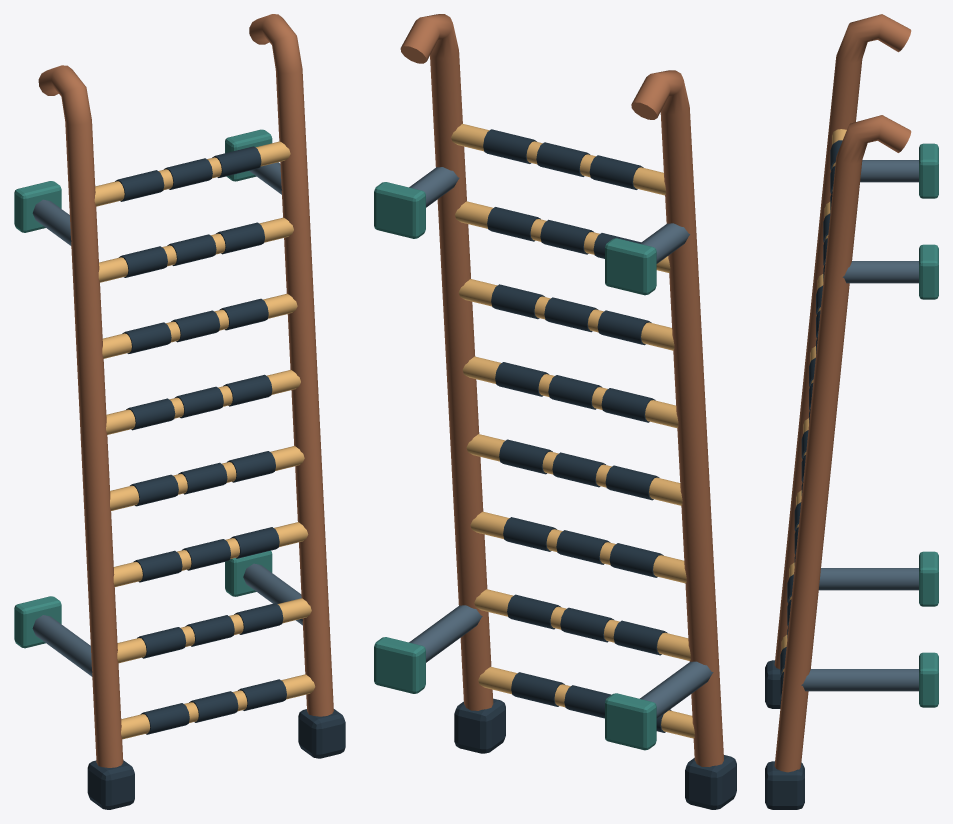
3 renders of one model, left to right at view 1: azimuth 30°, elevation 25°; view 2: azimuth 150°, elevation 25°; view 3: azimuth 270°, elevation 25°, orthographic. The views are drawn at different scales.
Parts seen in each view (by area): view 1: PR137 enamel and hardware; view 2: PR137 enamel and hardware; view 3: PR137 enamel and hardware.
Part boxes in pixels (x1,y1,x2,y2): PR137 enamel and hardware: (14, 14, 345, 809); PR137 enamel and hardware: (374, 14, 736, 809); PR137 enamel and hardware: (765, 14, 938, 809).
Size of the model in its own units: 0.8842 by 2.36 by 0.5396.
